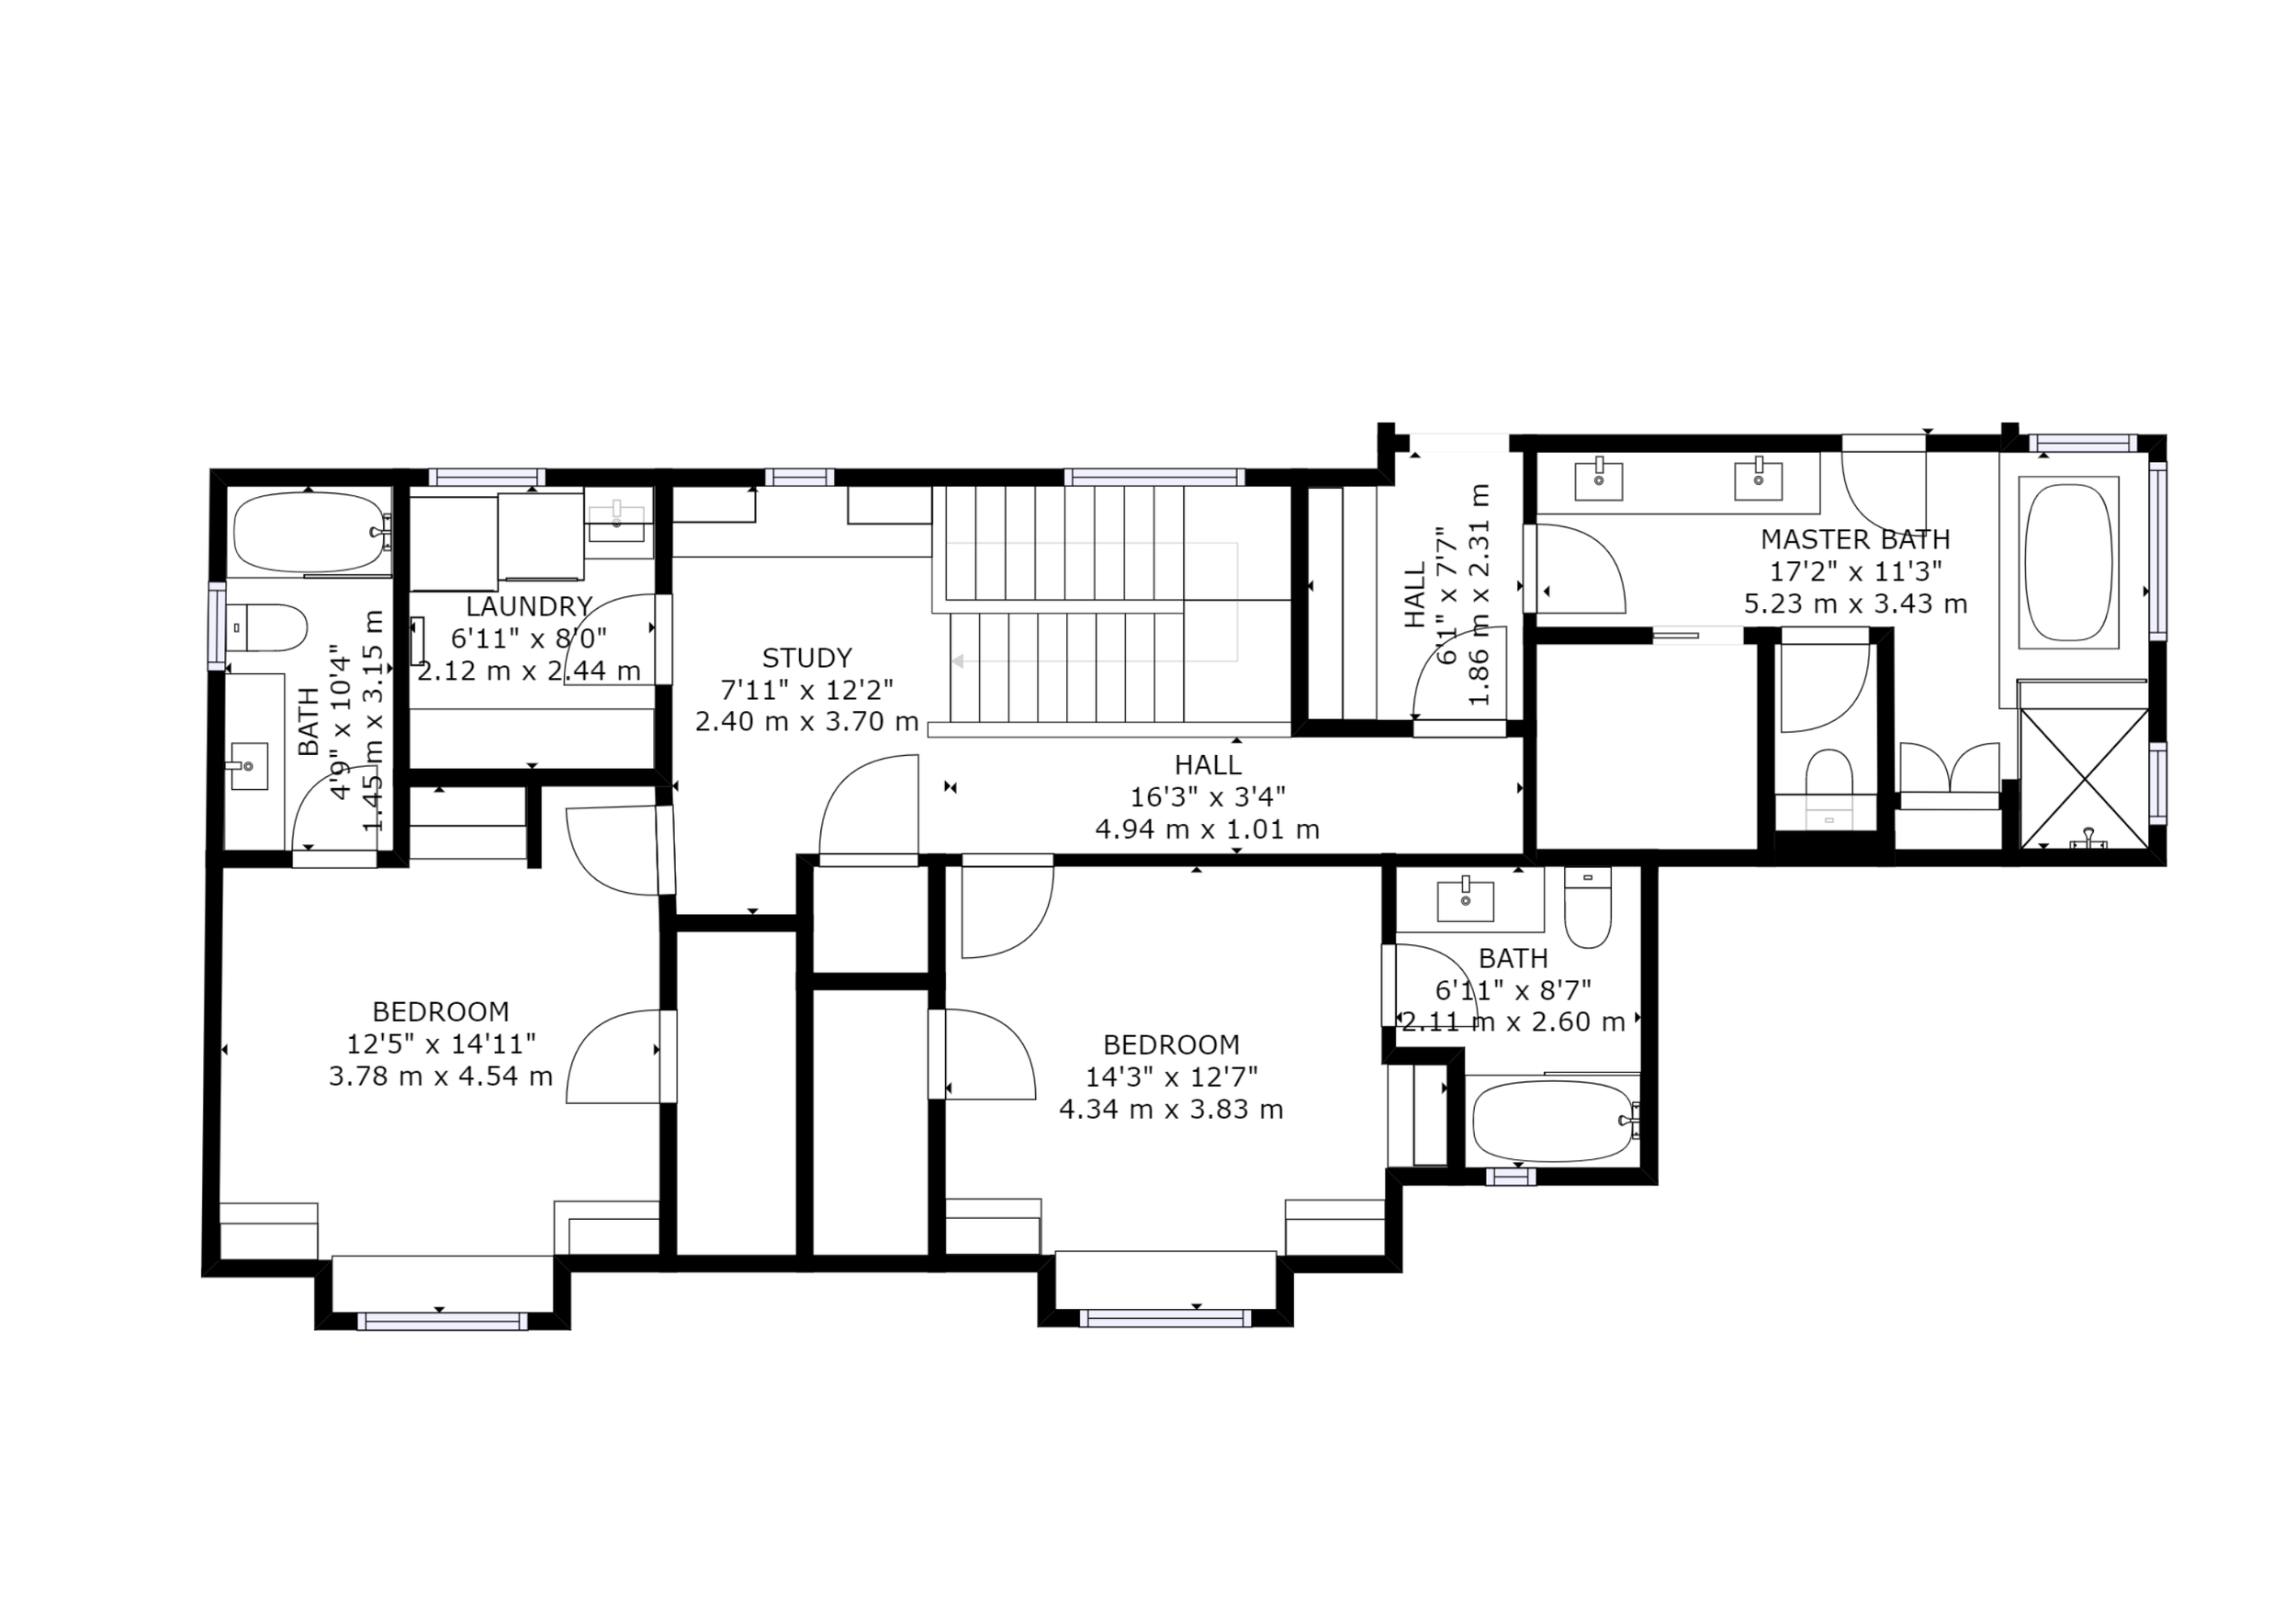basin: (1435, 866, 1500, 928), (223, 736, 274, 803), (1574, 452, 1634, 506), (1732, 453, 1785, 506), (588, 499, 646, 547)
bathtub: (2013, 473, 2120, 656), (1467, 1070, 1634, 1165), (228, 485, 390, 576)
door: (820, 752, 922, 868), (1412, 619, 1509, 736), (562, 803, 682, 896), (566, 1011, 680, 1107), (562, 594, 676, 689), (957, 852, 1058, 960), (929, 1007, 1040, 1102), (1523, 522, 1634, 617), (292, 758, 379, 870), (1843, 431, 1929, 541), (1783, 624, 1866, 738), (1383, 944, 1488, 1030), (1945, 736, 2001, 812), (1897, 742, 1945, 808)
shower: (2020, 684, 2150, 844)
stairs: (935, 482, 1296, 601), (940, 612, 1288, 724)
toilet: (1802, 747, 1857, 830), (1563, 868, 1614, 951), (227, 603, 309, 652)
window: (2145, 459, 2173, 643), (1063, 464, 1245, 490), (355, 1308, 529, 1334), (1079, 1308, 1253, 1329), (430, 462, 548, 490), (2027, 431, 2134, 453), (762, 464, 834, 490), (2148, 738, 2168, 826)
